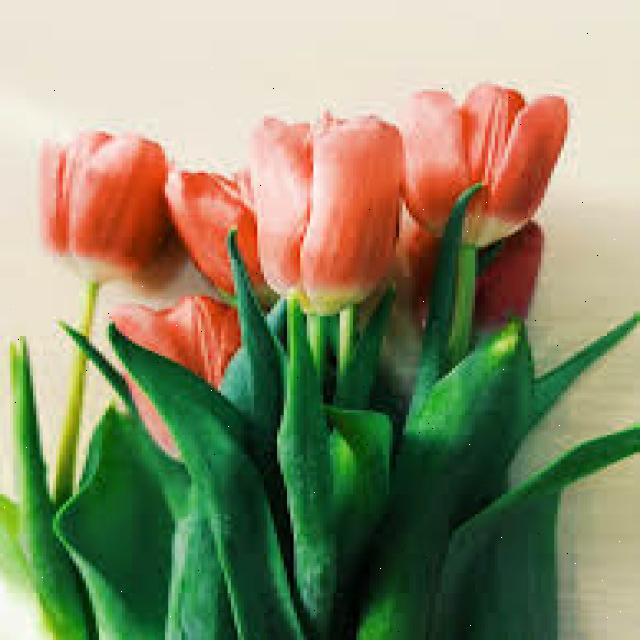Bloomed: (144, 74, 494, 346)
